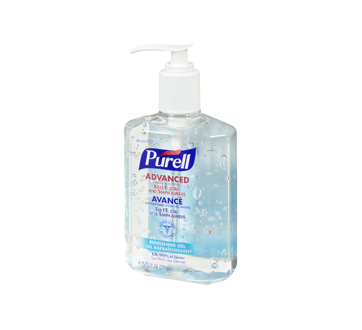Sanitizer: (120, 39, 240, 286)
